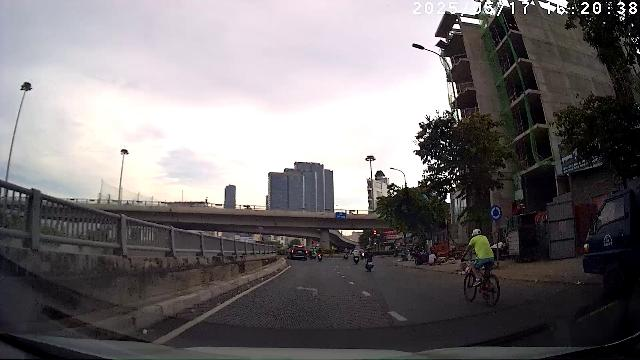303-noi-giao-nhau-chay-theo-vong-xuyen: (489, 205, 502, 221)
